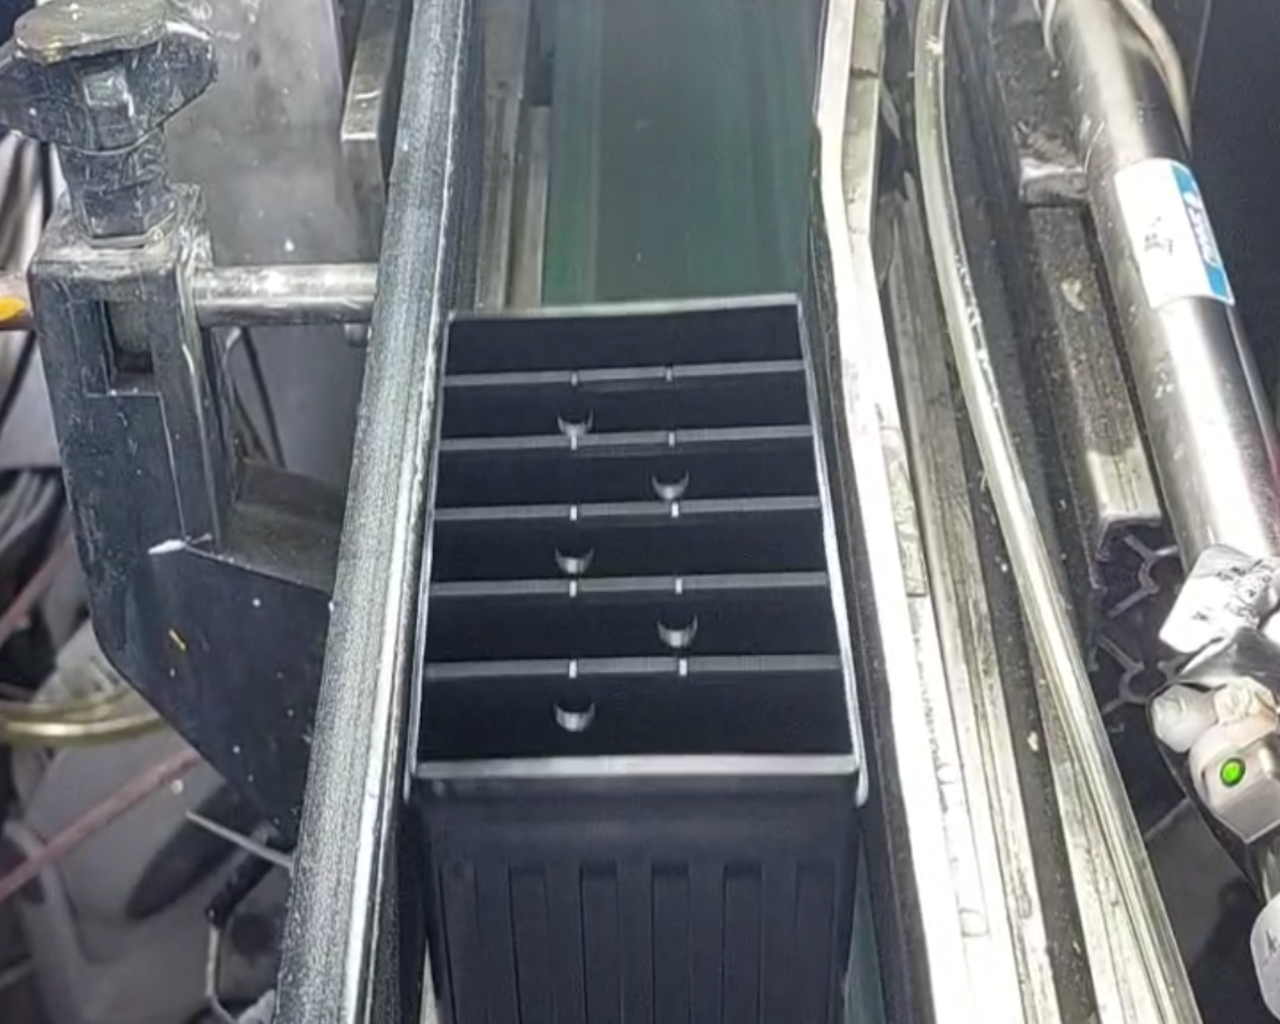box: (394, 284, 886, 825)
round: (543, 679, 607, 738), (646, 594, 706, 654), (541, 526, 605, 579), (642, 453, 700, 506), (545, 389, 600, 441)
